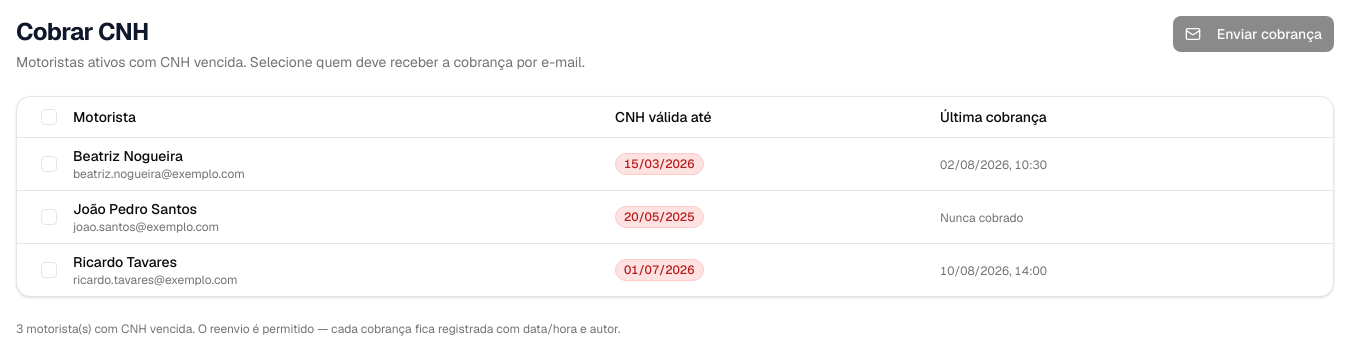
Scenario: CnhCollectionClient — render › selecionar todos marca todos os checkboxes
This screenshot has width=1351, height=353.
What coordinates should you click on to do the following:
click the checkbox named "Selecionar todos"
I would click on:
 (49, 117)
Its box is [41,109,57,125].
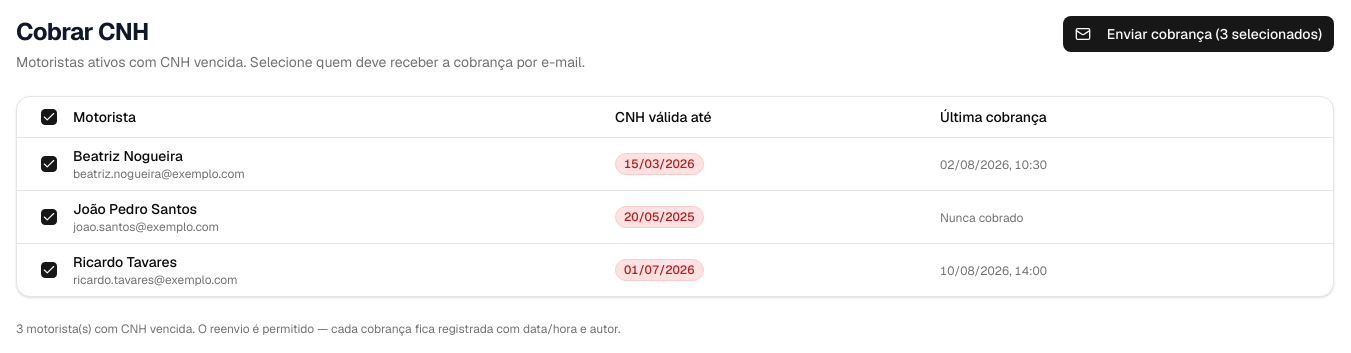
Result: the button "Enviar cobrança (3 selecionados)" is shown at [1063,16,1334,52]
